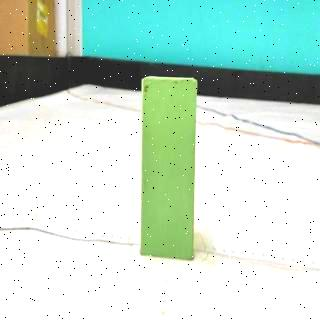greenbox: (142, 76, 196, 262)
